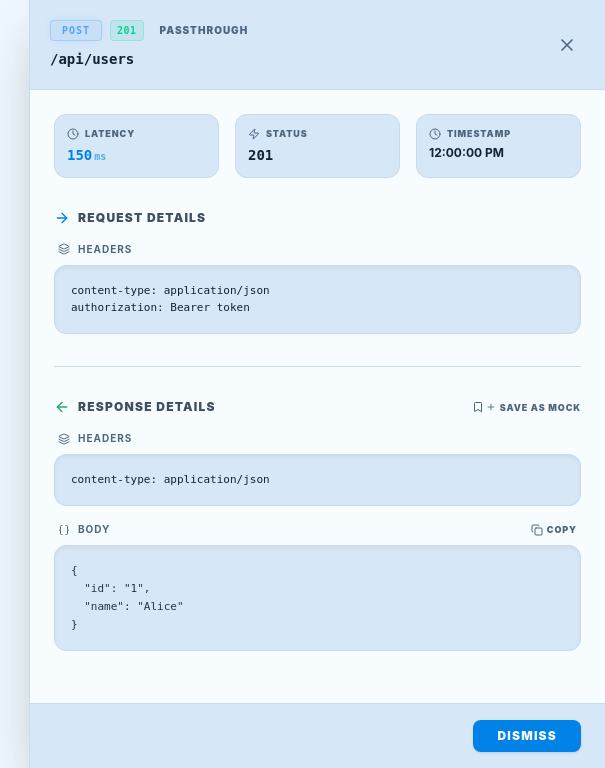
it: RequestDetail › save as mock › shows Saved confirmation message after successful save
The width and height of the screenshot is (605, 768).
Click the button with aria-label "save as mock response" at {"x": 526, "y": 407}, box [472, 400, 581, 414]
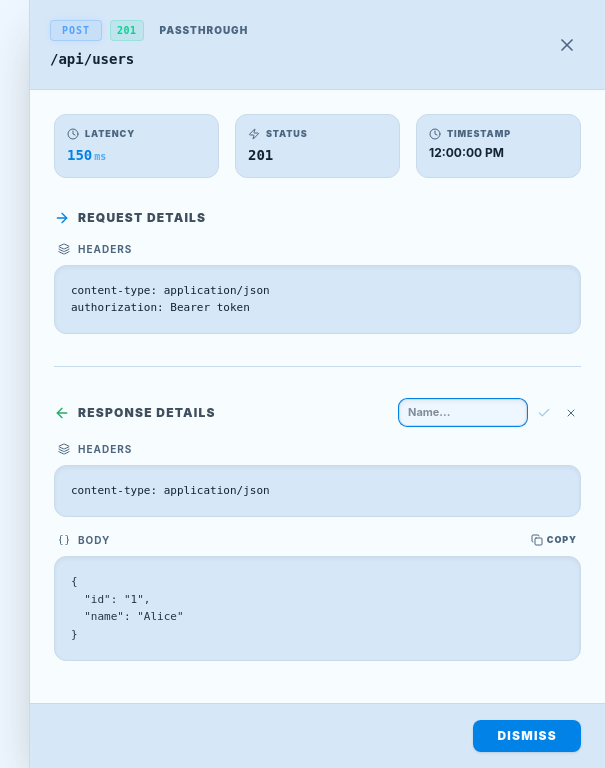
Type "Test saved" into the field with placeholder "Name..." at {"x": 463, "y": 413}, box [399, 399, 527, 426]
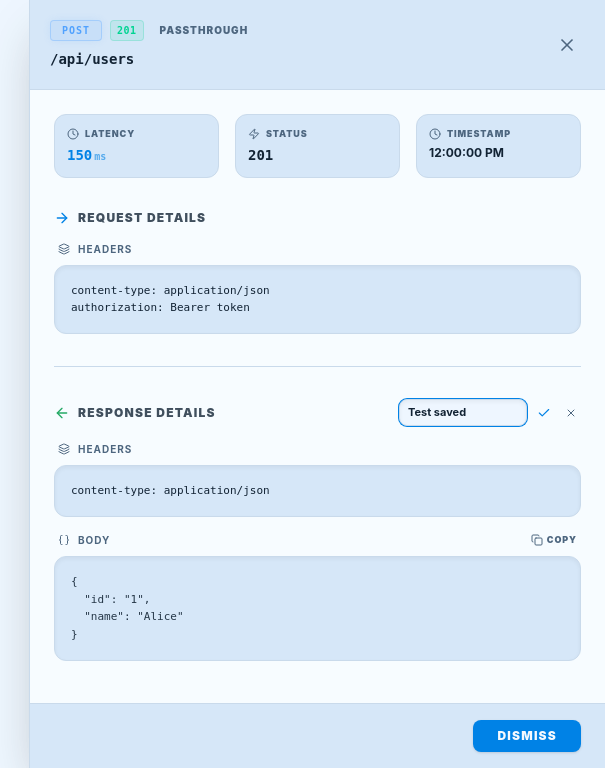
Click the button named "confirm save response" at {"x": 544, "y": 412}, box [533, 402, 555, 424]
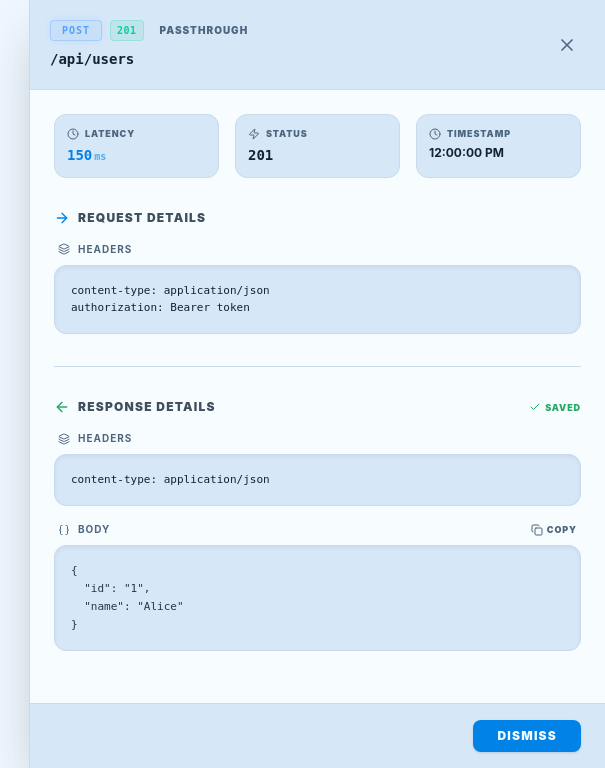
Expected: the text "Saved" is shown, [529, 400, 581, 414]
